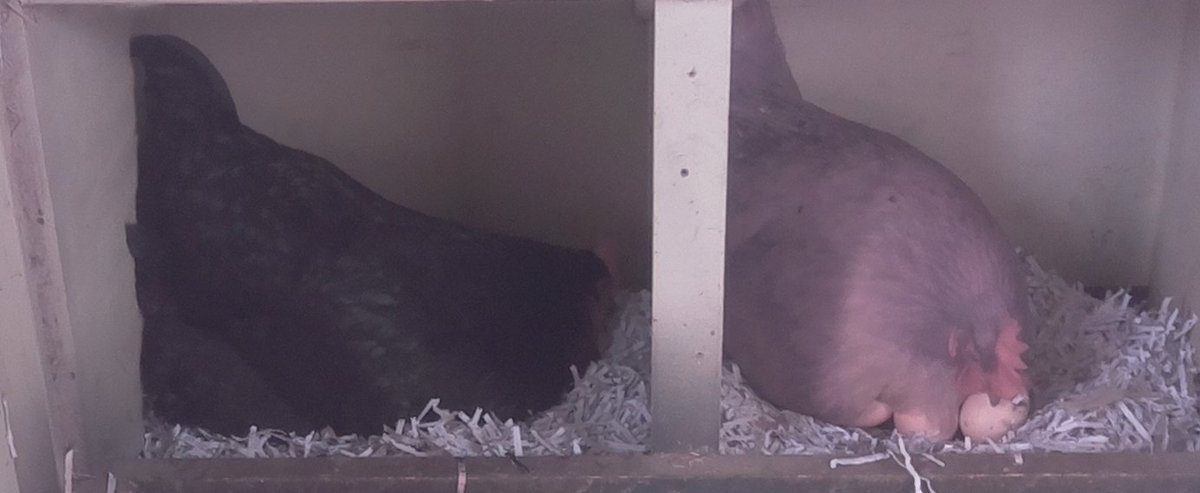egg: (957, 380, 1038, 441), (891, 387, 959, 449), (847, 397, 894, 436)
hen: (123, 40, 627, 439), (734, 9, 1055, 450)
